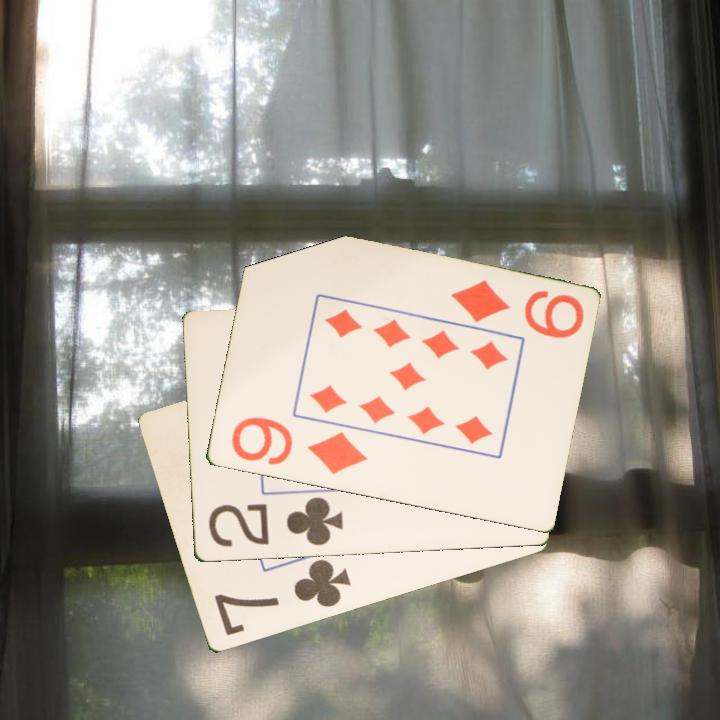2c: (204, 494, 346, 551)
7c: (210, 556, 354, 639)
9d: (227, 413, 370, 478), (447, 276, 587, 342)
